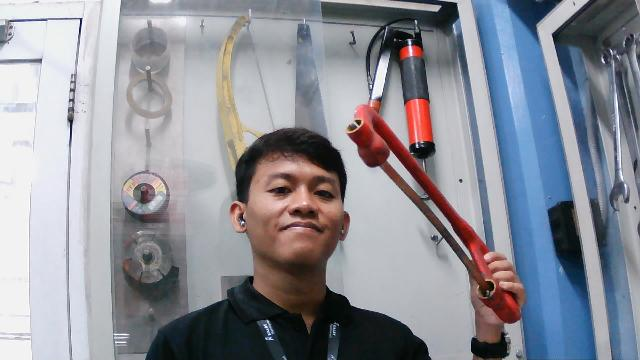gergaji_besi: (343, 98, 530, 326)
